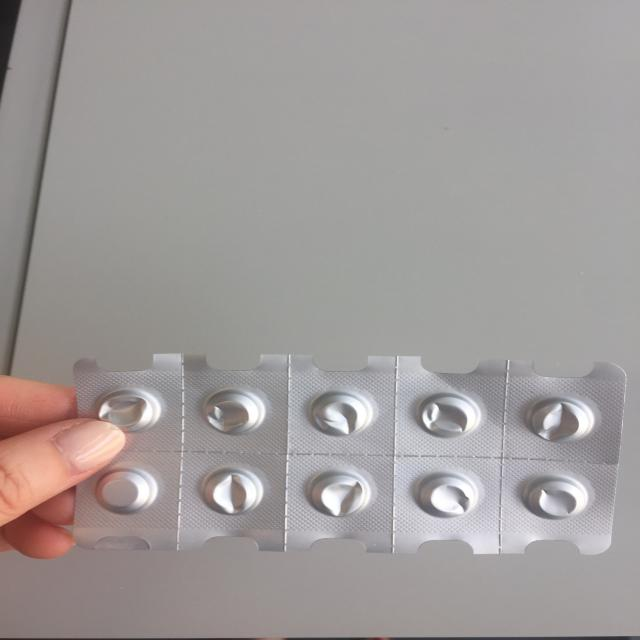Empty: (520, 391, 599, 451), (298, 466, 377, 524), (299, 384, 378, 442), (513, 468, 592, 524), (408, 468, 486, 522), (410, 386, 482, 443), (89, 384, 165, 436), (196, 387, 272, 438), (195, 464, 265, 518)
Pill: (92, 466, 162, 518)
